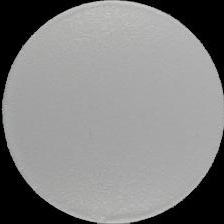50268-696: (0, 0, 224, 224)
